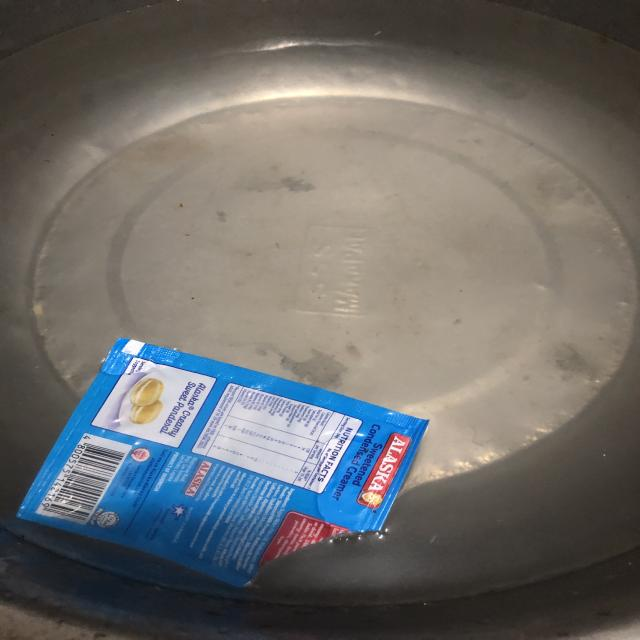Plastic Wrapper: (0, 322, 451, 595)
